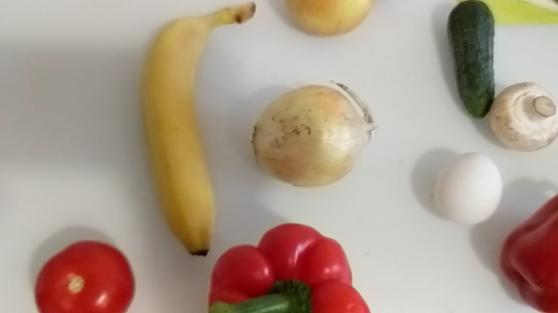banana: (141, 1, 255, 256)
champignon: (490, 82, 557, 149)
cucumber: (449, 1, 497, 119)
egg: (434, 151, 502, 222)
onion: (252, 83, 372, 188)
pepper: (209, 221, 369, 313)
tomato: (33, 239, 135, 313)
